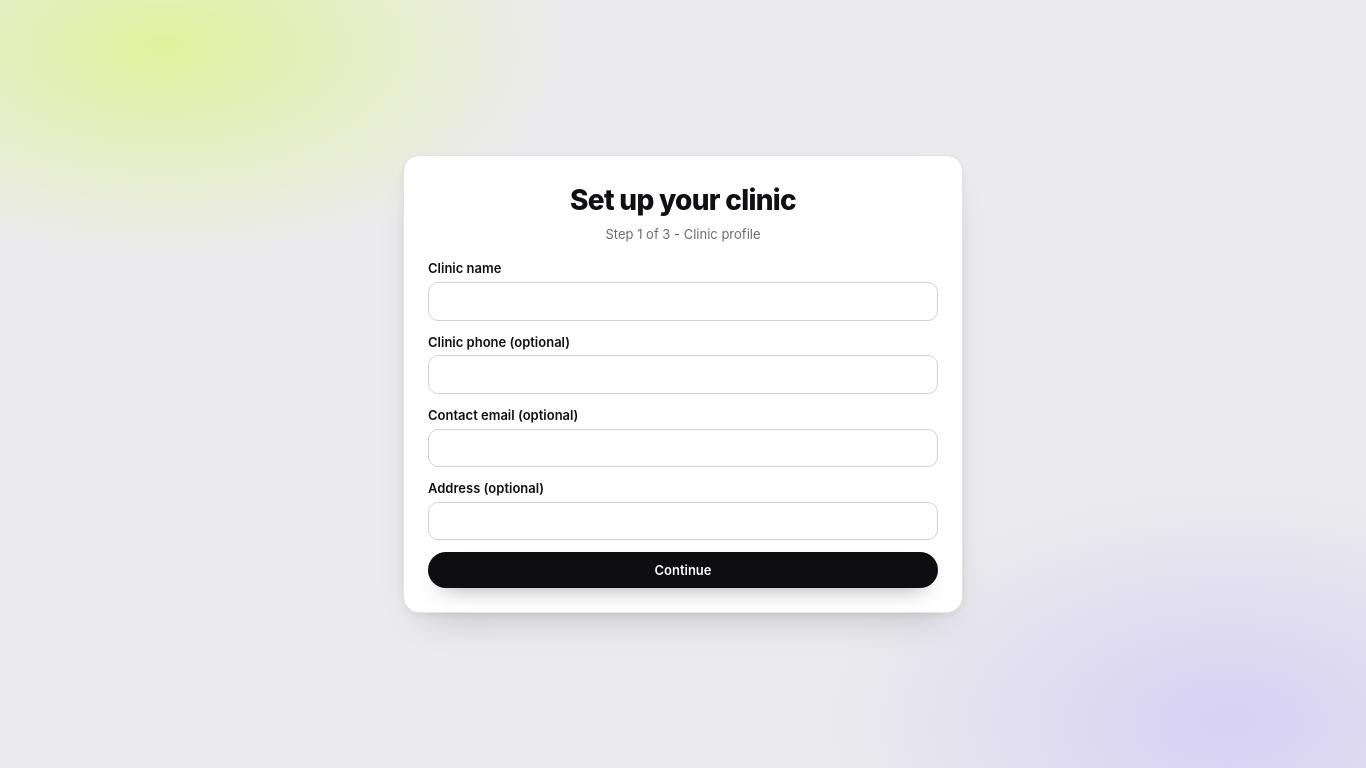
Test: OnboardingPage › rejects an invalid clinic email without saving
Type "not-an-email" into the field labelled "Contact email (optional)".
click(683, 448); type("not-an-email")  # box [428,429,938,467]
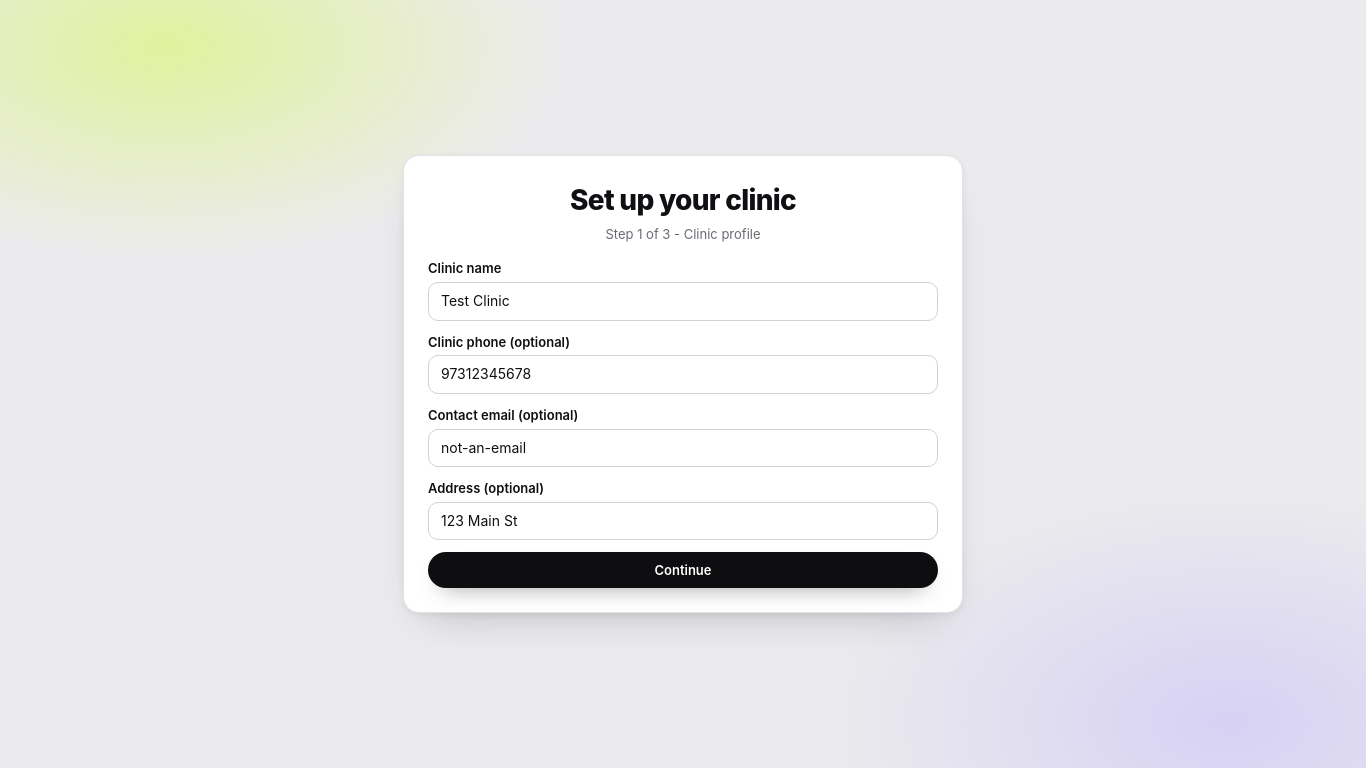
Click the button "Continue".
click(683, 570)  # box [428,552,938,588]
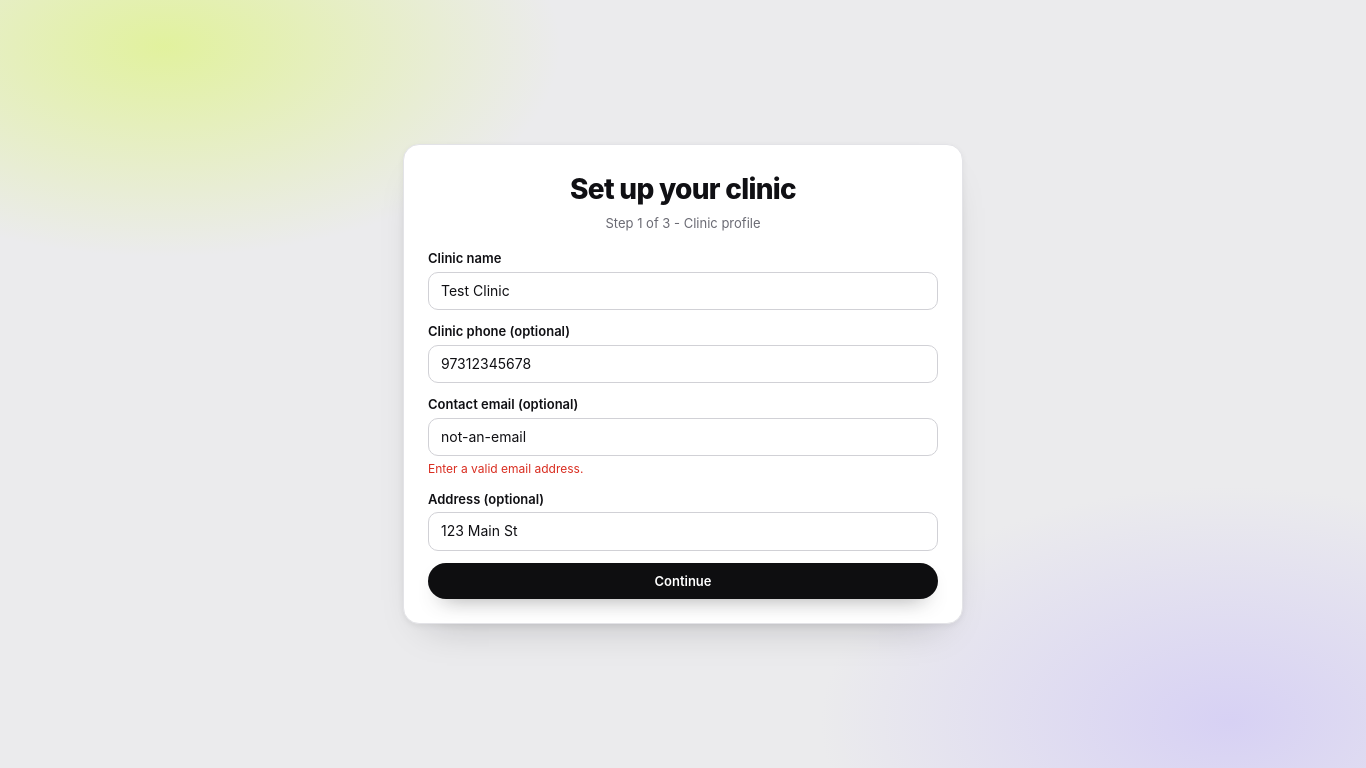
Expected: the text "Step 1 of 3 - Clinic profile" is shown, [606,215,760,231]
Expected: the text "Enter a valid email address." is shown, [428,461,583,476]
